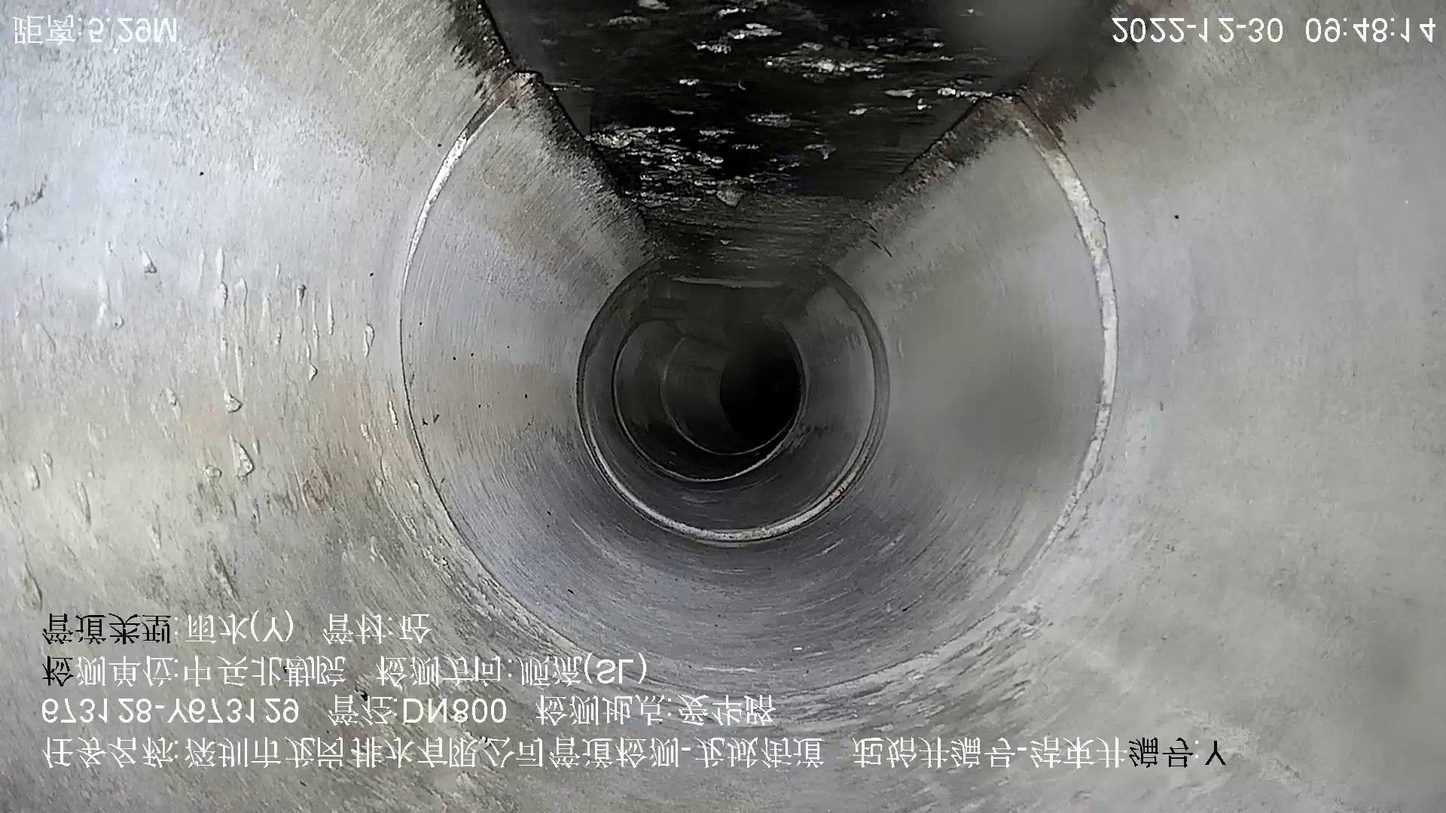CJ: (491, 1, 1106, 287)
CKTJ: (578, 281, 889, 544), (995, 100, 1119, 557), (397, 71, 535, 423)
